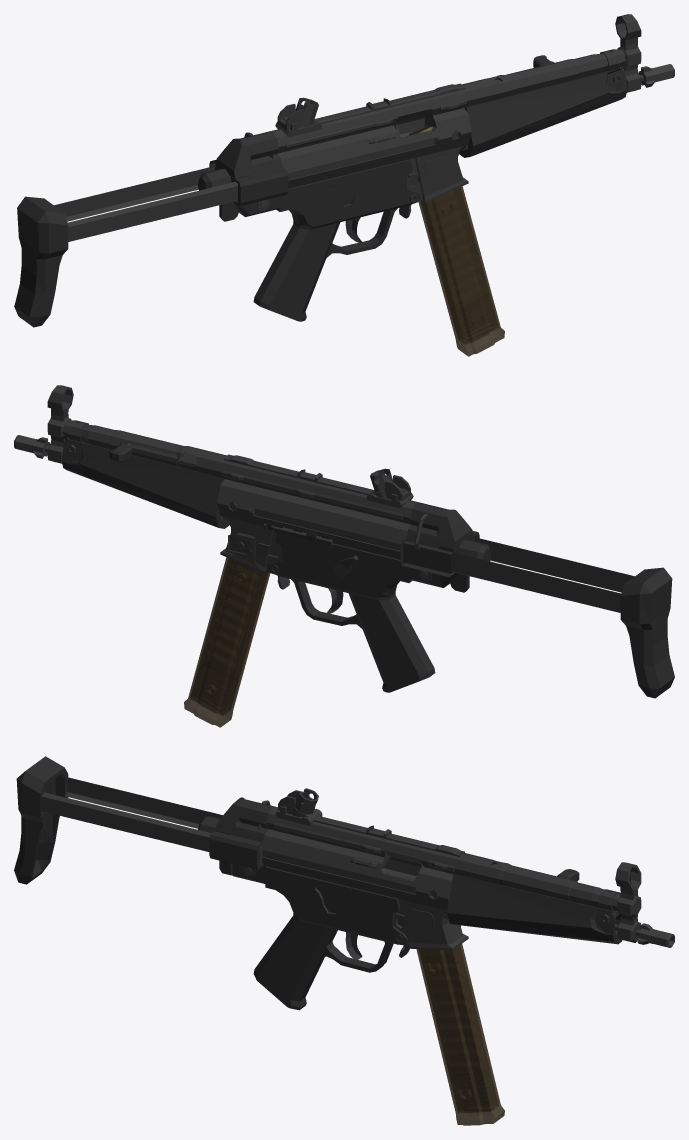
The model's file is sub_mp5a2-named-nodes.glb.
The picture shows the model from 3 angles, top to bottom: view 1: azimuth 30°, elevation 25°; view 2: azimuth 150°, elevation 25°; view 3: azimuth 330°, elevation 25°; orthographic projection.
Visible parts, largest first — view 1: Object_5, Object_4, Object_14, Object_6, Object_8, Object_9, Object_10, Object_7; view 2: Object_5, Object_4, Object_14, Object_6, Object_8, Object_9, Object_10, Object_7; view 3: Object_5, Object_4, Object_14, Object_6, Object_8, Object_9, Object_10, Object_7.
Boxes of the visible parts, x1=… form: Object_5: x1=14, y1=55, x2=626, y2=327; Object_4: x1=54, y1=49, x2=626, y2=241; Object_14: x1=408, y1=126, x2=504, y2=356; Object_6: x1=275, y1=83, x2=466, y2=148; Object_8: x1=600, y1=14, x2=643, y2=92; Object_9: x1=257, y1=71, x2=621, y2=243; Object_10: x1=261, y1=79, x2=501, y2=207; Object_7: x1=638, y1=64, x2=674, y2=87; Object_5: x1=62, y1=438, x2=674, y2=698; Object_4: x1=62, y1=420, x2=634, y2=612; Object_14: x1=184, y1=543, x2=270, y2=727; Object_6: x1=222, y1=454, x2=413, y2=519; Object_8: x1=45, y1=385, x2=88, y2=463; Object_9: x1=67, y1=442, x2=431, y2=614; Object_10: x1=126, y1=443, x2=427, y2=578; Object_7: x1=14, y1=435, x2=50, y2=458; Object_5: x1=14, y1=756, x2=631, y2=1010; Object_4: x1=41, y1=777, x2=620, y2=950; Object_14: x1=415, y1=877, x2=504, y2=1125; Object_6: x1=273, y1=788, x2=464, y2=871; Object_8: x1=598, y1=862, x2=641, y2=942; Object_9: x1=242, y1=866, x2=619, y2=960; Object_10: x1=245, y1=850, x2=497, y2=879; Object_7: x1=637, y1=923, x2=674, y2=947.
Size of the model in its own units: 7.44 by 3.25 by 0.6602.
Materials: 3 (3 with a texture image).
